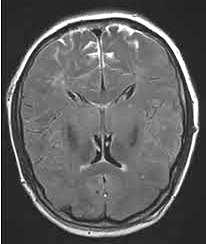Normal_Brain: (7, 6, 206, 244)
